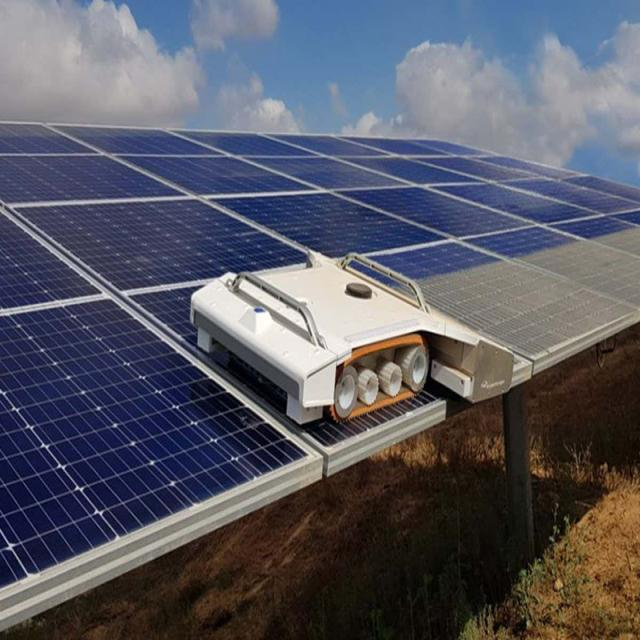clean-solar-panel: (0, 121, 640, 605)
